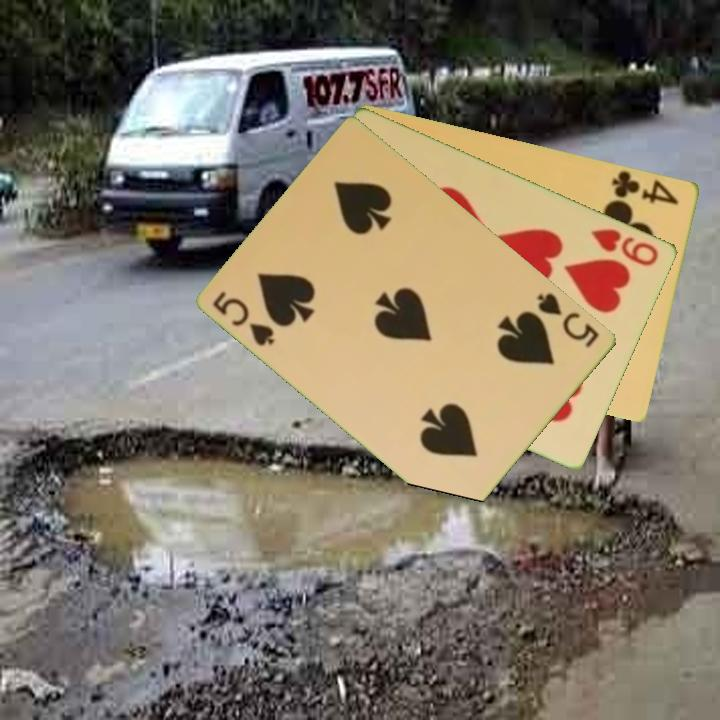4c: (609, 167, 682, 207)
5s: (534, 289, 603, 351), (209, 288, 279, 349)
9h: (588, 224, 662, 269)
